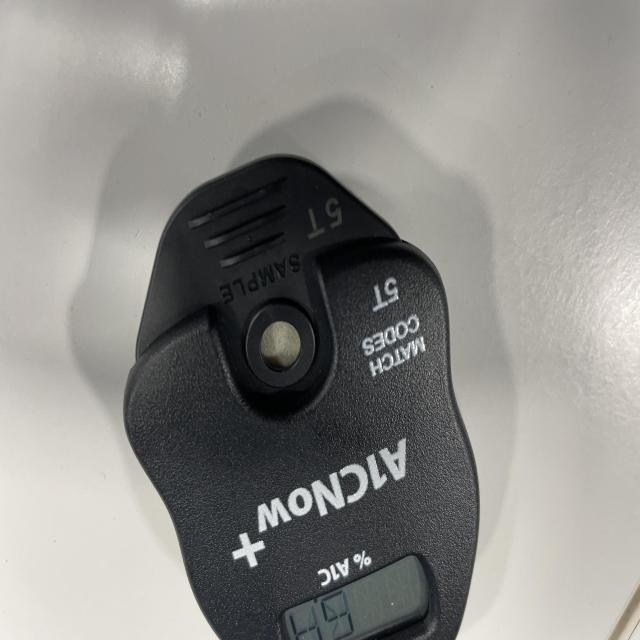hba1c: (121, 156, 481, 640)
